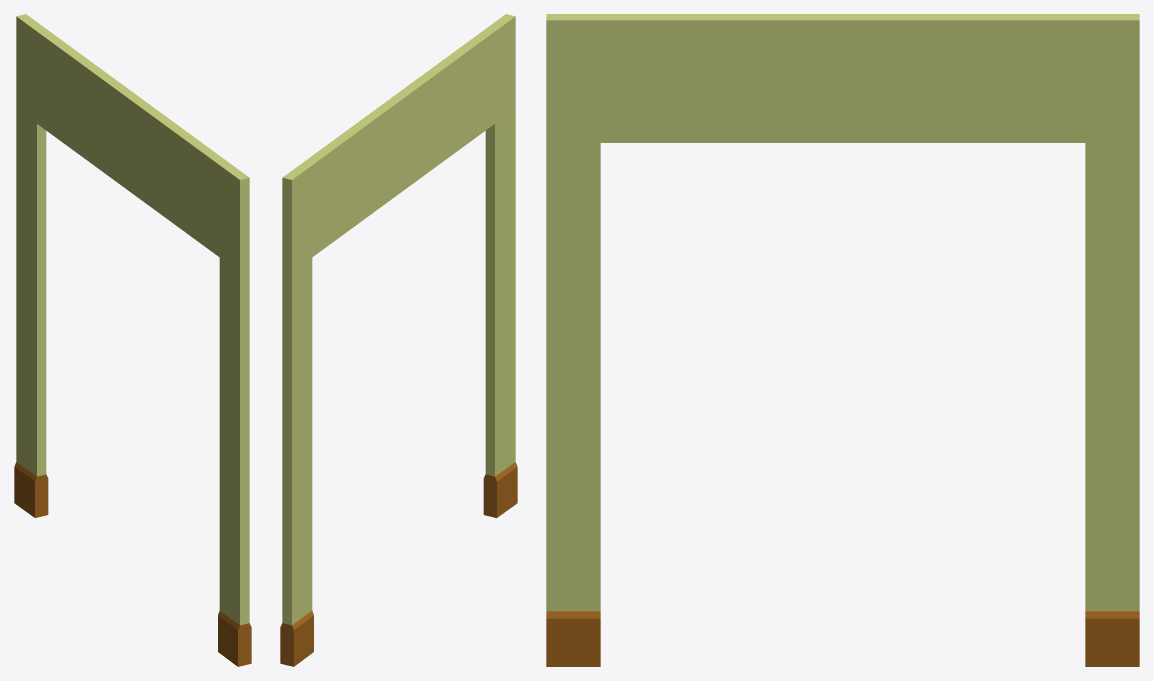
File: wallDoorFrame 1.fbx
The picture shows the model from 3 angles, left to right: view 1: azimuth 30°, elevation 25°; view 2: azimuth 150°, elevation 25°; view 3: azimuth 270°, elevation 25°; orthographic projection. The views are drawn at different scales.
Parts seen in each view (by area): view 1: Wall Doorframe; view 2: Wall Doorframe; view 3: Wall Doorframe.
Boxes of the visible parts, x1=… form: Wall Doorframe: x1=14, y1=14, x2=251, y2=666; Wall Doorframe: x1=280, y1=14, x2=517, y2=666; Wall Doorframe: x1=546, y1=14, x2=1139, y2=666.
Size of the model in its own units: 13.96 by 400 by 480.
